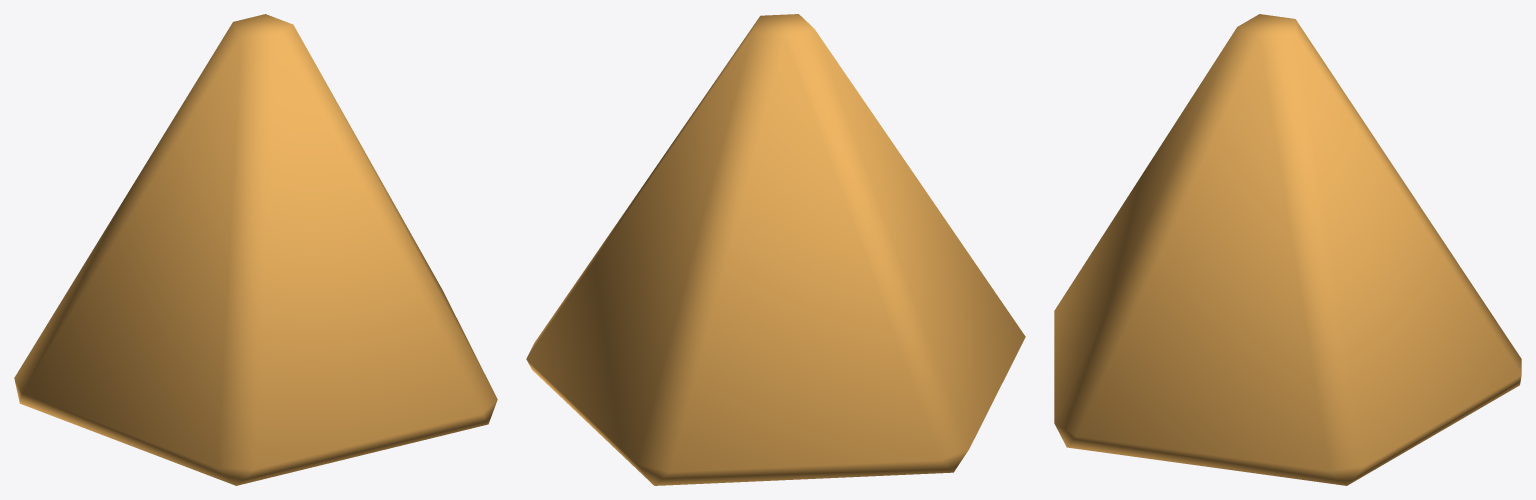
3 renders of one model, left to right at view 1: azimuth 30°, elevation 25°; view 2: azimuth 150°, elevation 25°; view 3: azimuth 270°, elevation 25°, orthographic. The views are drawn at different scales.
Parts seen in each view (by area): view 1: Pyramid_5P; view 2: Pyramid_5P; view 3: Pyramid_5P.
Boxes of the visible parts, box(x1,y1,x2,y2) form: Pyramid_5P: box(14, 14, 497, 485); Pyramid_5P: box(526, 14, 1025, 485); Pyramid_5P: box(1054, 14, 1521, 485).
Size of the model in its own units: 330 by 266 by 314.
